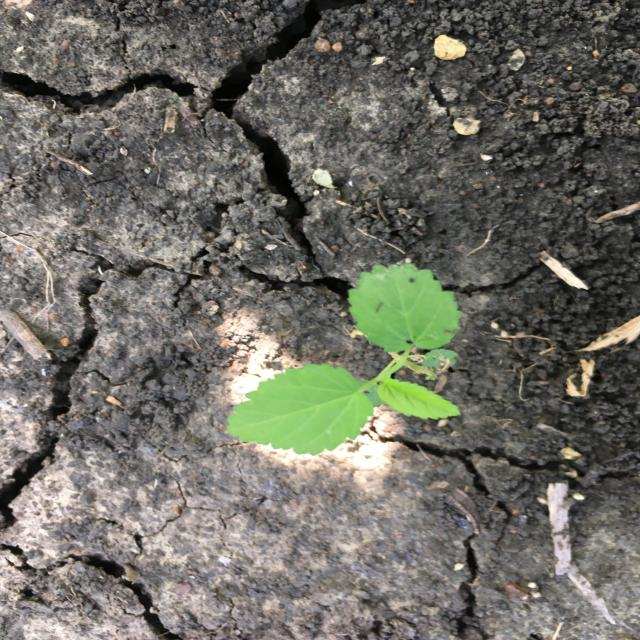PricklySida: (223, 261, 467, 458)
